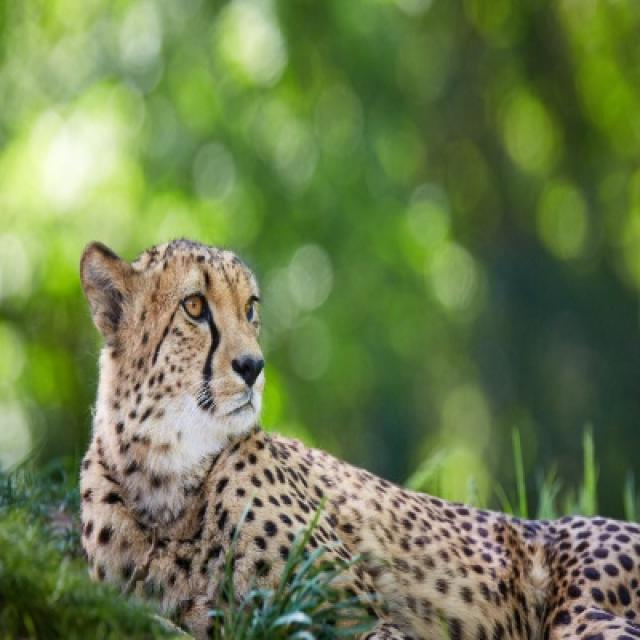Cheetah: (78, 238, 638, 638)
